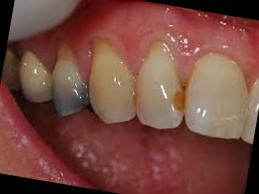Tooth Discoloration: (40, 69, 109, 132)
